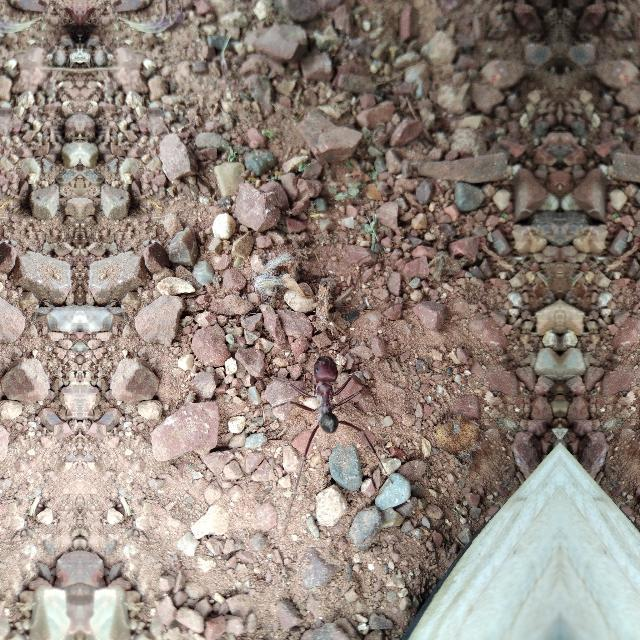Cataglyphis: (293, 339, 357, 449)
